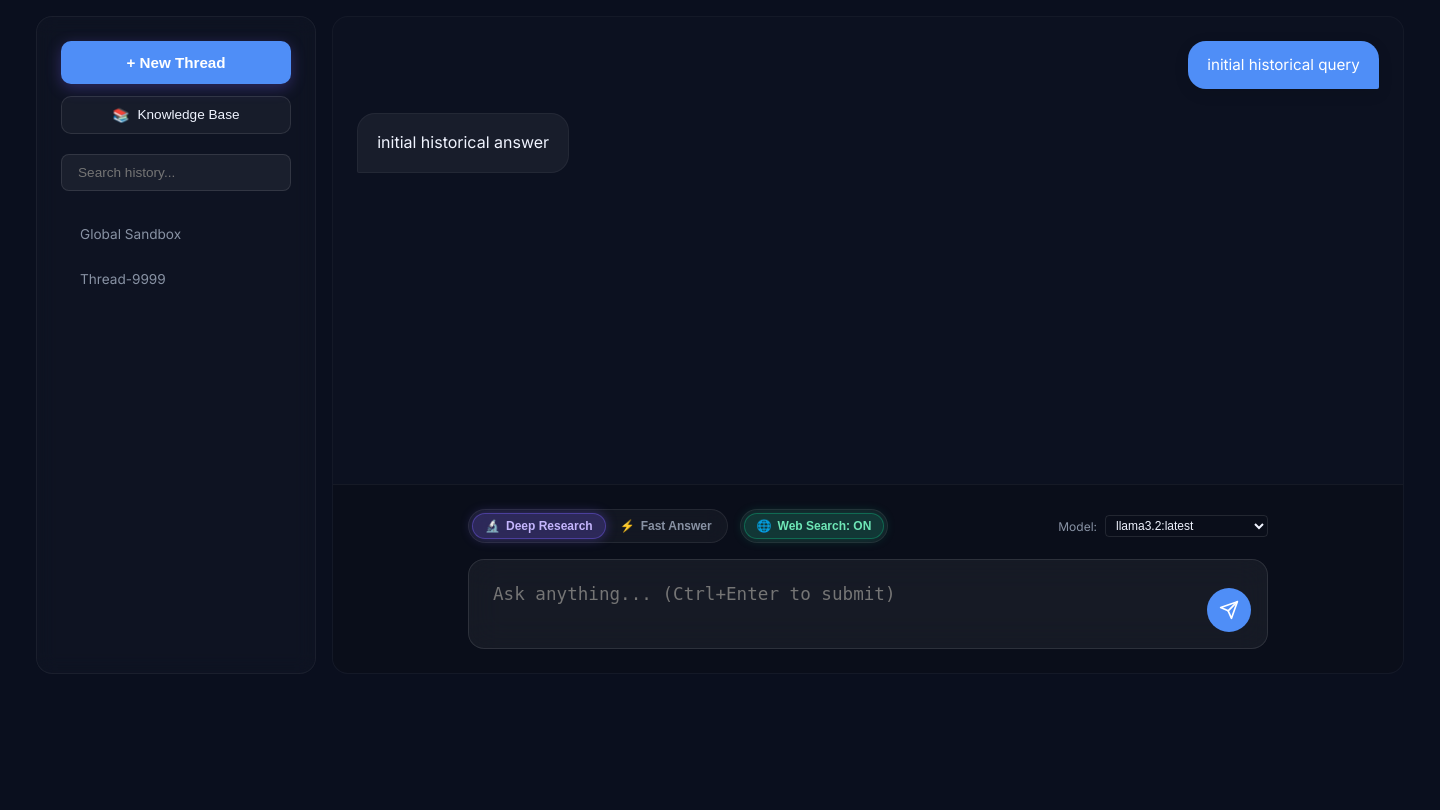
it: Search Page Component › performs semantic history search
Expected: the text "Global Sandbox" is shown, left=80, top=226, right=181, bottom=242
Type "rust memory" into the field with placeholder "Search history..." at [176, 172], box left=61, top=154, right=291, bottom=191
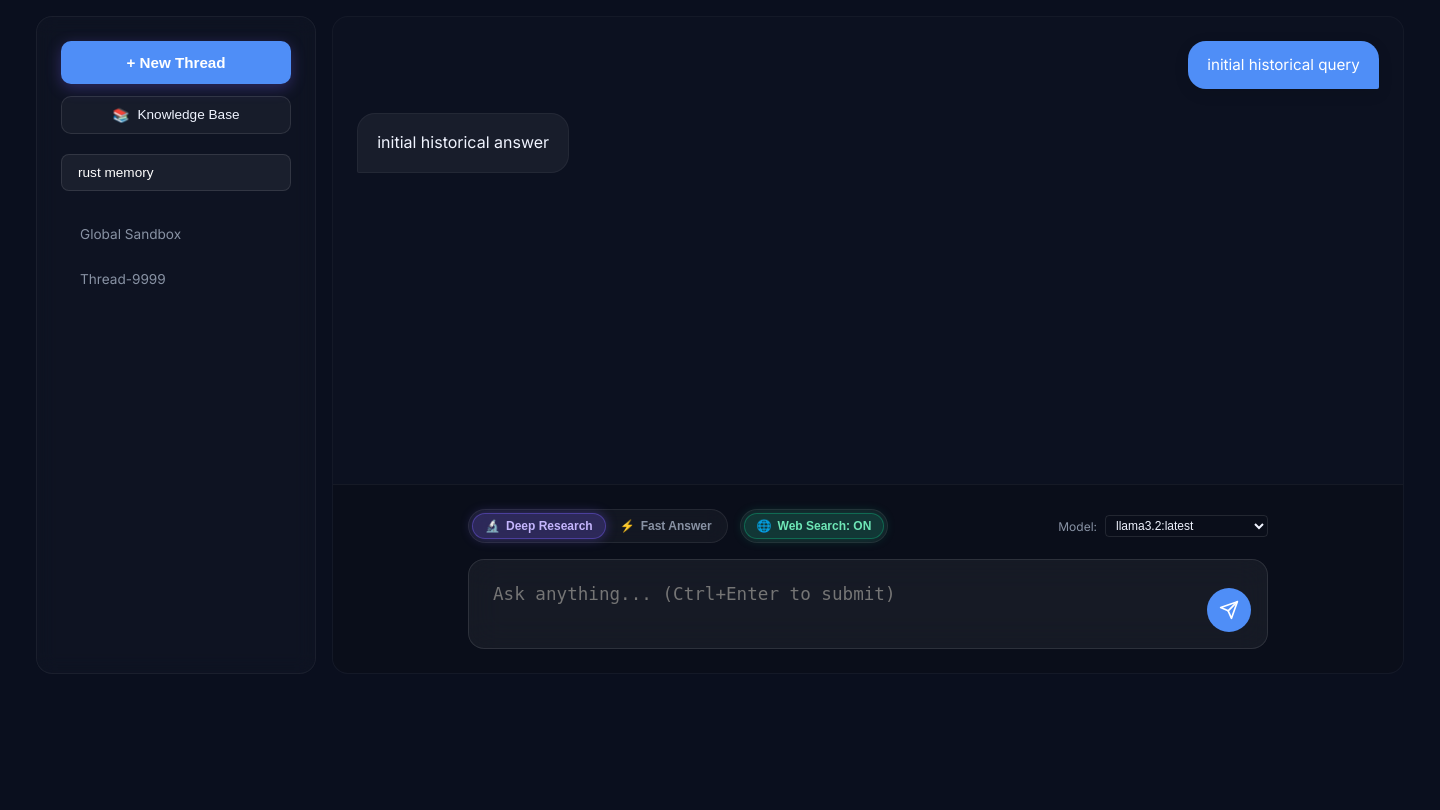
Submit the form with placeholder "Search history...", box left=61, top=154, right=291, bottom=191
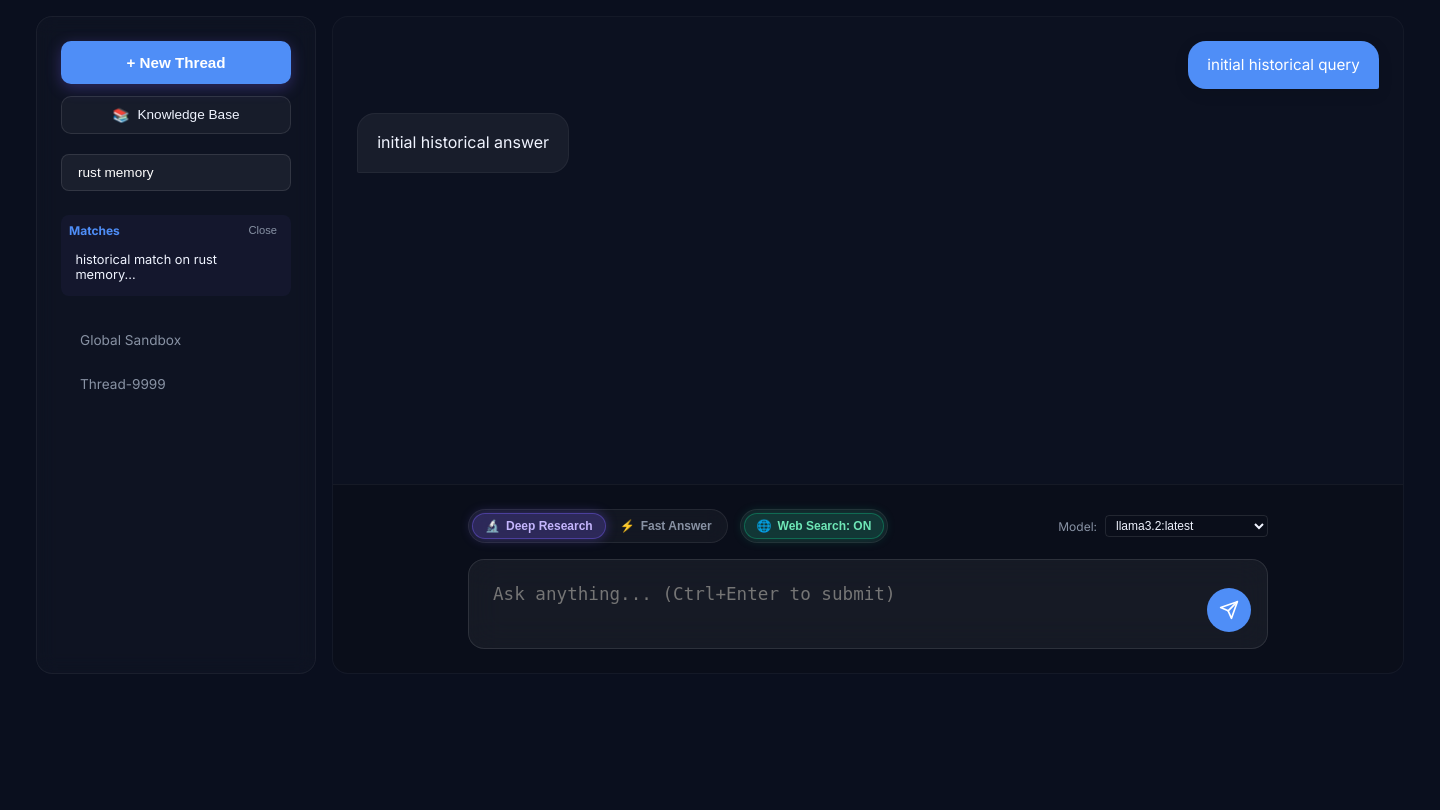
Result: the text "Matches" is shown at left=69, top=223, right=120, bottom=238
Result: the text "historical match on rust memory..." is shown at left=75, top=252, right=217, bottom=282
